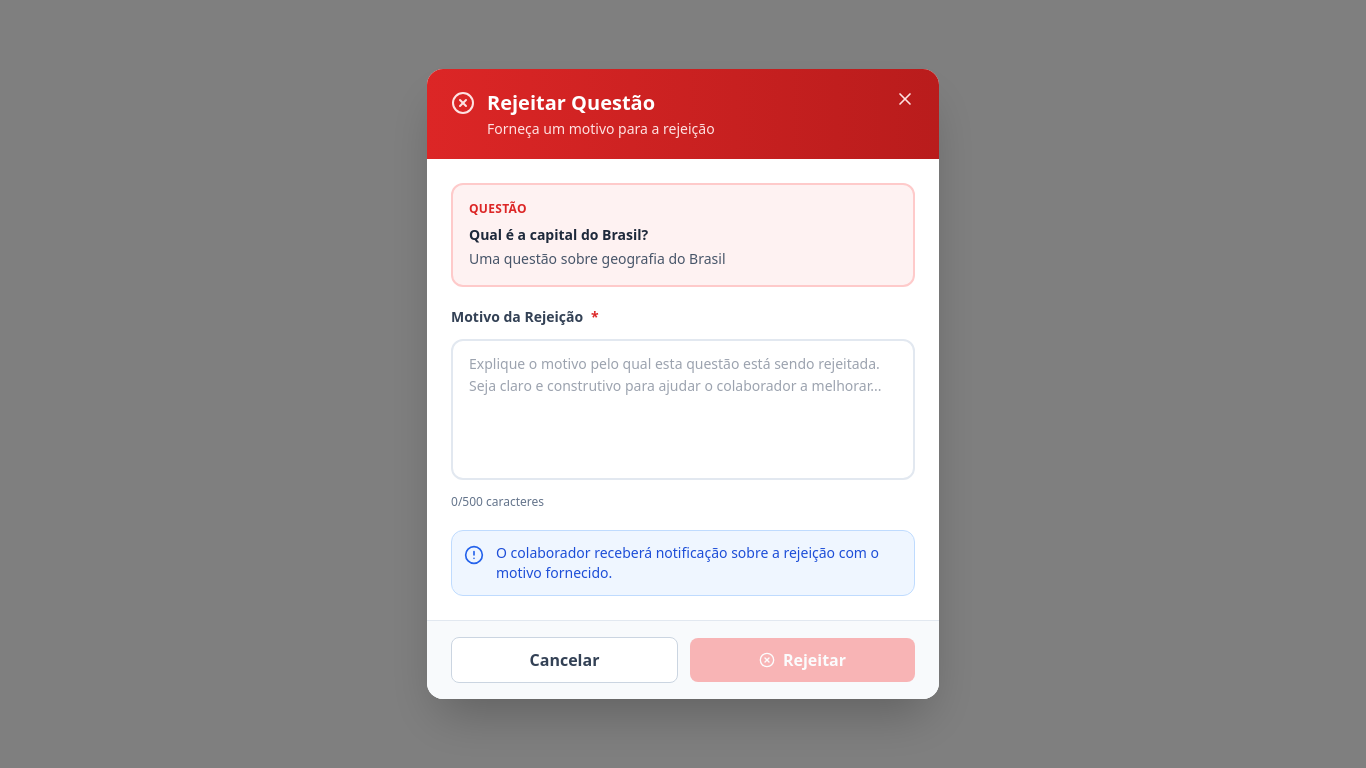
Test: RejectModal Component › Validation › should enable button when any text is entered
// Type just 1 character
Type "a" into the text box with placeholder "Explique o motivo pelo qual esta questão está sendo rejeitada". click: (683, 410)
box: [451,339,915,480]
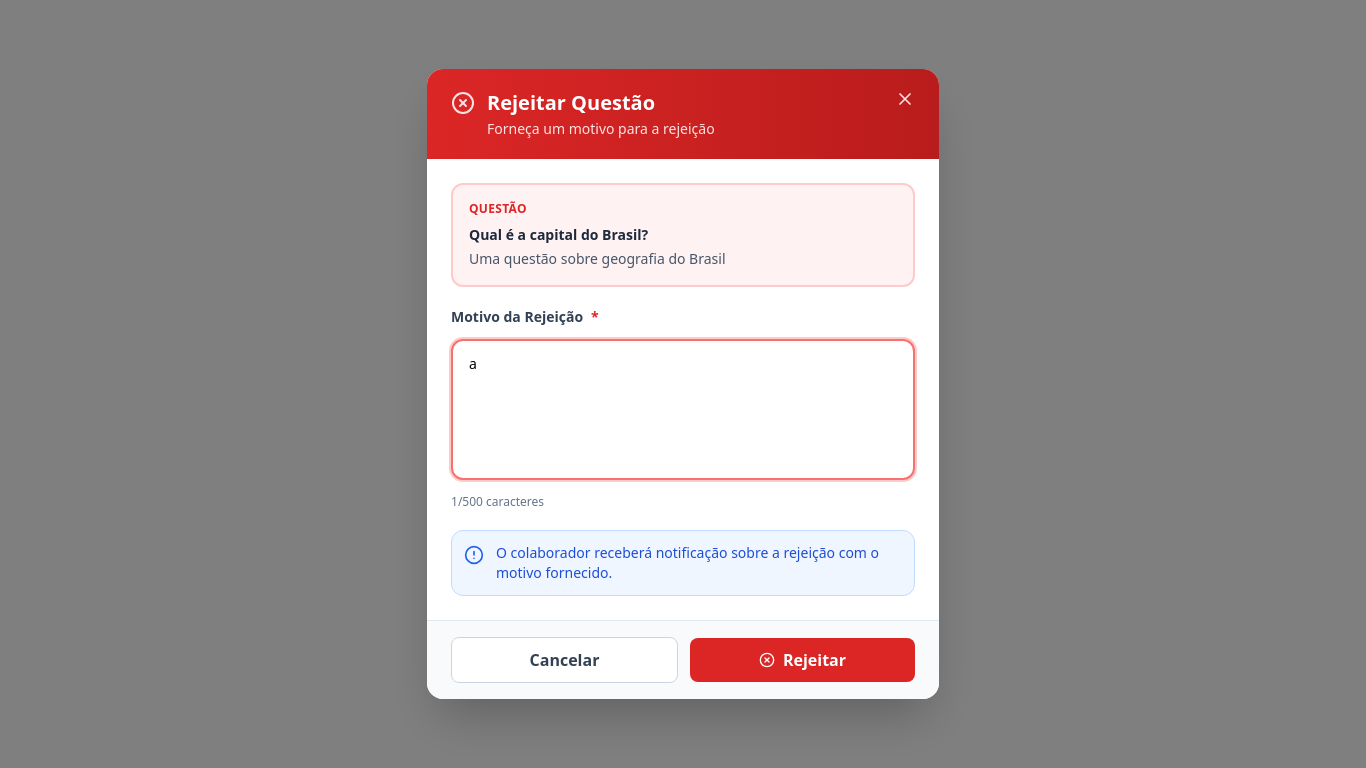
Result: the button "Rejeitar" is enabled at [690,638,915,682]
